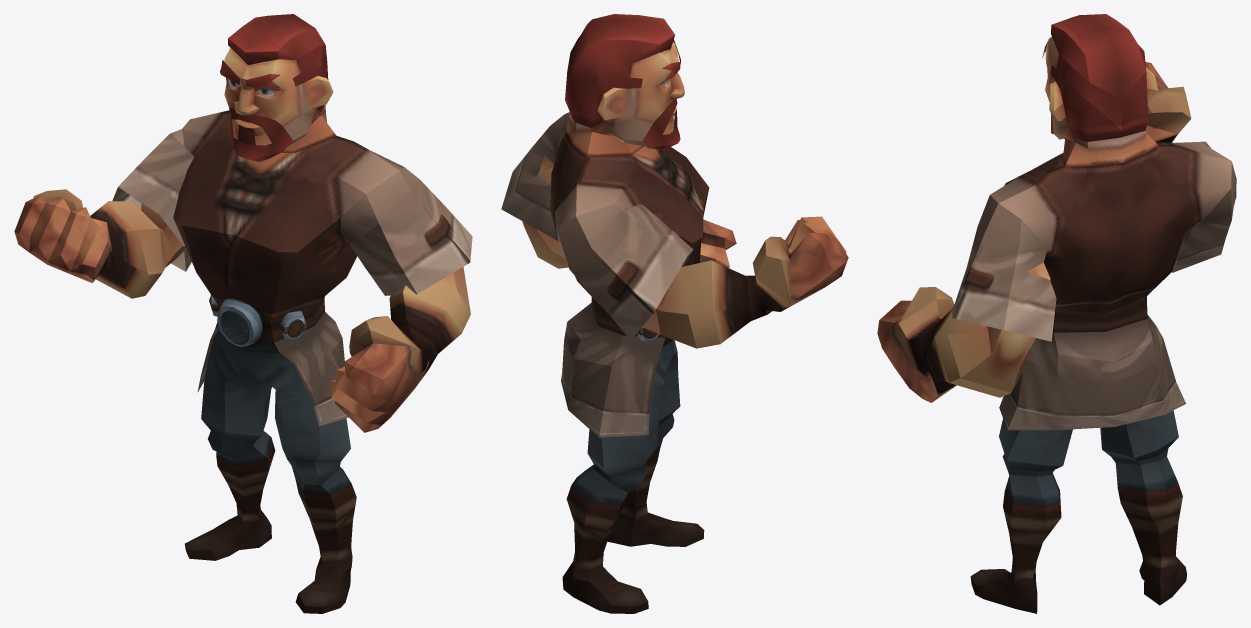
The model's file is Pose.FBX.
3 renders of one model, left to right at view 1: azimuth 30°, elevation 25°; view 2: azimuth 150°, elevation 25°; view 3: azimuth 270°, elevation 25°, orthographic. The views are drawn at different scales.
Visible parts, largest first — view 1: MerchantBody, MerchantItem, MerchantHair; view 2: MerchantBody, MerchantItem, MerchantHair; view 3: MerchantBody, MerchantItem, MerchantHair.
Boxes of the visible parts, box(x1,y1,x2,y2) form: MerchantBody: box(14, 48, 470, 613); MerchantItem: box(112, 129, 472, 426); MerchantHair: box(220, 14, 328, 161); MerchantBody: box(522, 41, 848, 613); MerchantItem: box(501, 115, 693, 437); MerchantHair: box(565, 14, 680, 149); MerchantBody: box(877, 37, 1231, 613); MerchantItem: box(952, 141, 1236, 430); MerchantHair: box(1042, 14, 1148, 142).
Size of the model in its own units: 1.73 by 1.33 by 2.31.
